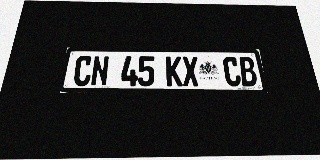4: (121, 56, 138, 86)
5: (138, 56, 154, 86)
B: (238, 57, 258, 86)
C: (72, 56, 93, 86), (222, 57, 242, 86)
K: (166, 56, 183, 86)
N: (90, 56, 110, 86)
X: (182, 56, 199, 86)
